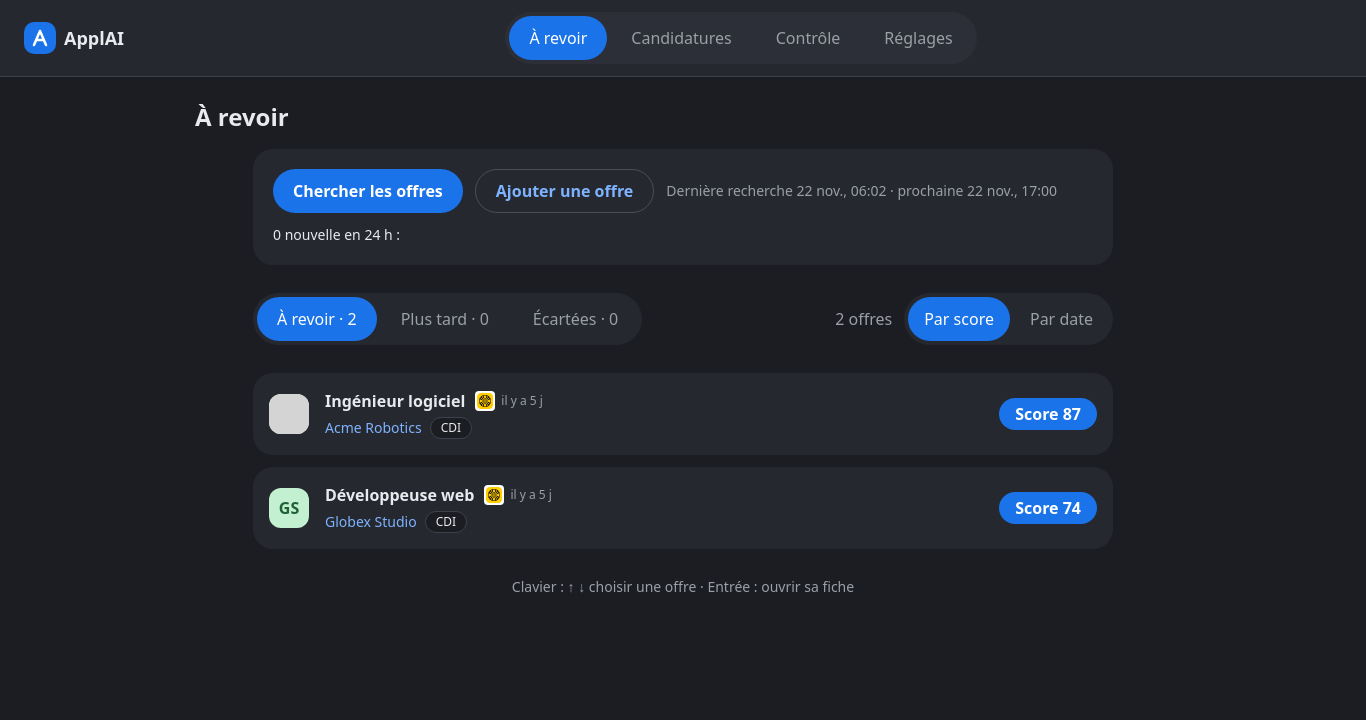
Test: a card › offers to read again only an offer that can be, then shows it is pending and why it failed
The image size is (1366, 720).
Click the button "GS Développeuse web il y a 5 j Globex Studio CDI Score 74" at (289, 508), box [253,467,1113,549]
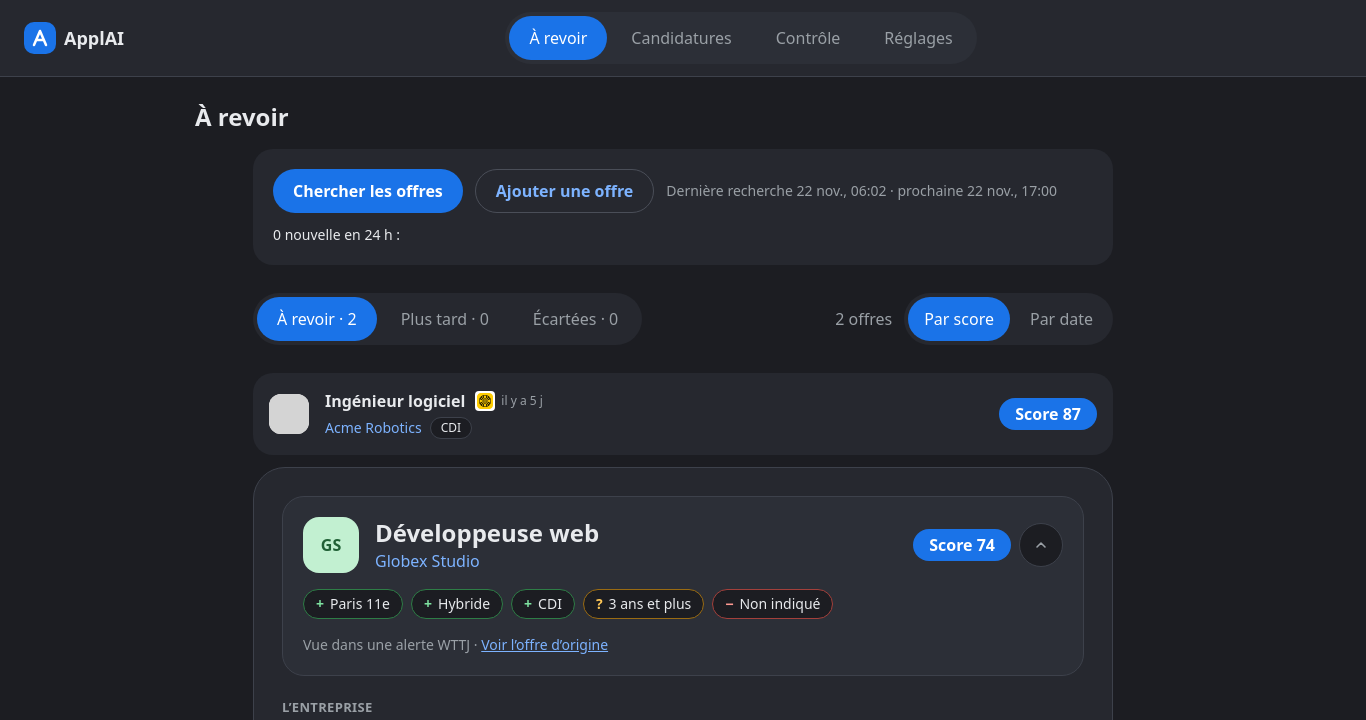
Check: the button "Relire l’offre" is not shown
Click the button "Ingénieur logiciel il y a 5 j Acme Robotics CDI Score 87" at (289, 414), box [253,373,1113,455]
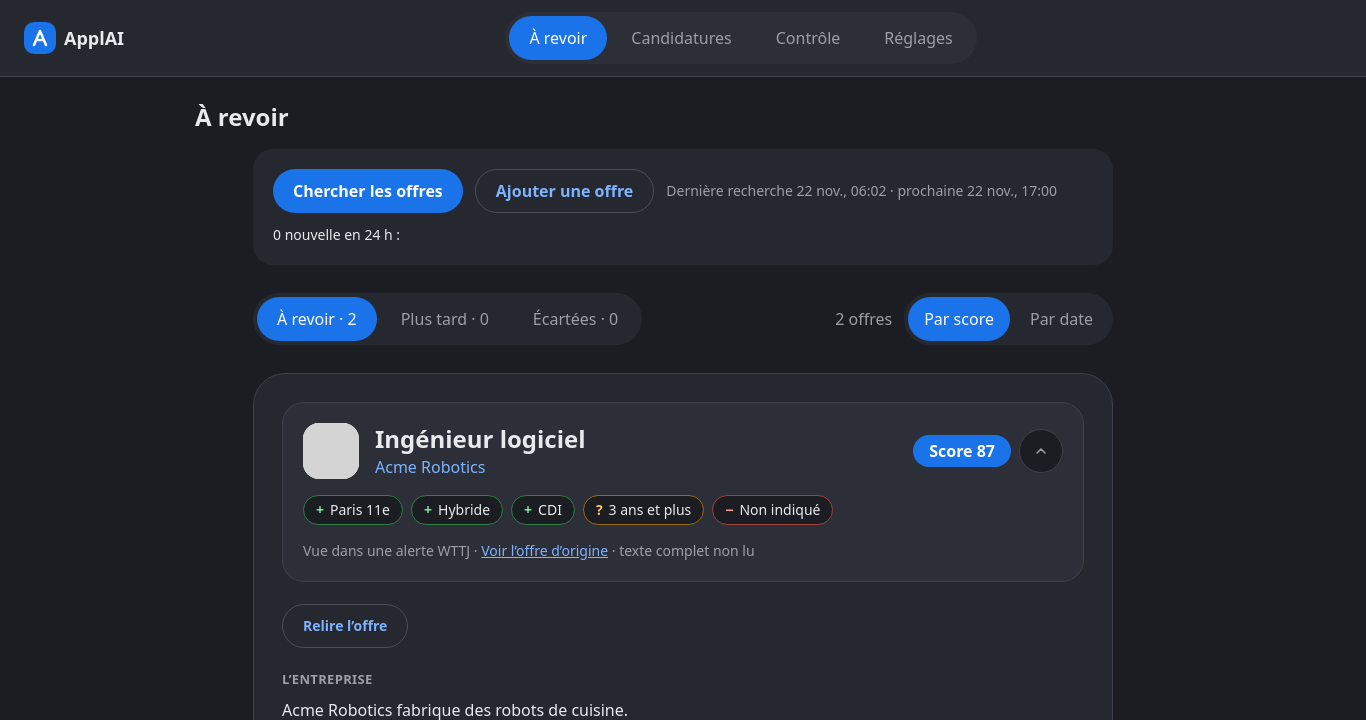
Click the button "Relire l’offre" at (345, 626), box [282,604,408,648]
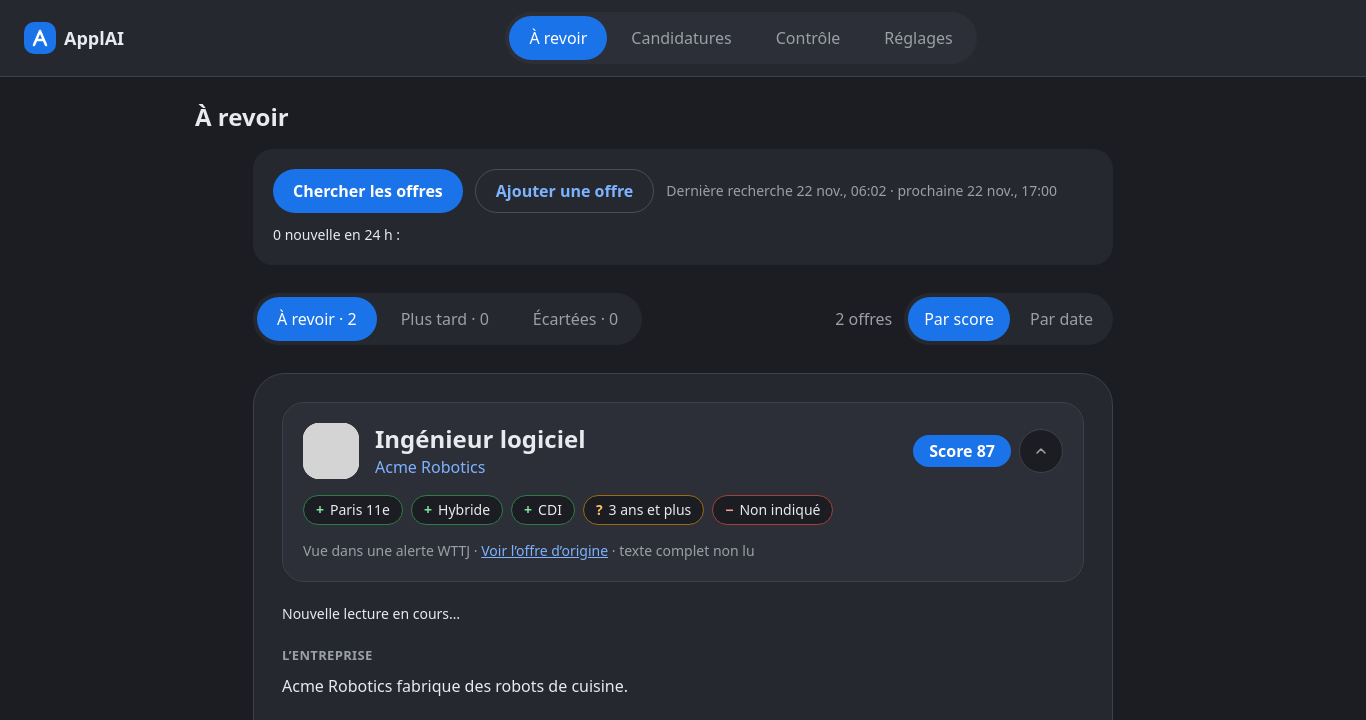
Check: the message reads "Nouvelle lecture en cours…", box [282,604,460,623]
Check: the button "Relire l’offre" is gone
